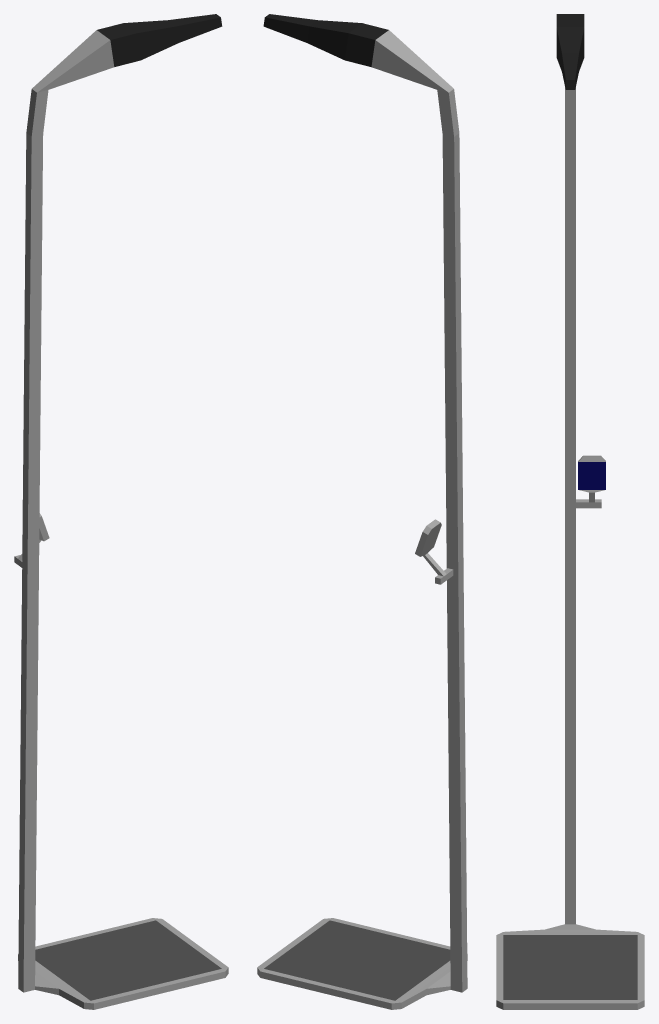
The model's file is WeightAndHeightScale.001.fbx.
The picture shows the model from 3 angles, left to right: view 1: azimuth 30°, elevation 25°; view 2: azimuth 150°, elevation 25°; view 3: azimuth 270°, elevation 25°; orthographic projection.
Visible parts, largest first — view 1: WeightAndHeightScale.001; view 2: WeightAndHeightScale.001; view 3: WeightAndHeightScale.001.
Boxes of the visible parts, bbox=[...] form: WeightAndHeightScale.001: bbox=[14, 14, 228, 1009]; WeightAndHeightScale.001: bbox=[257, 14, 467, 1009]; WeightAndHeightScale.001: bbox=[496, 14, 644, 1009].
Size of the model in its own units: 52.93 by 238 by 33.62.
